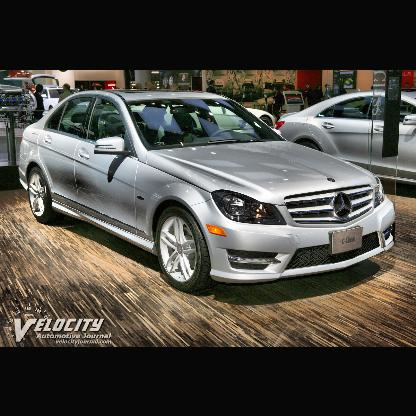Mercedes-Benz C-Class Sedan 2012: (11, 76, 404, 317)
